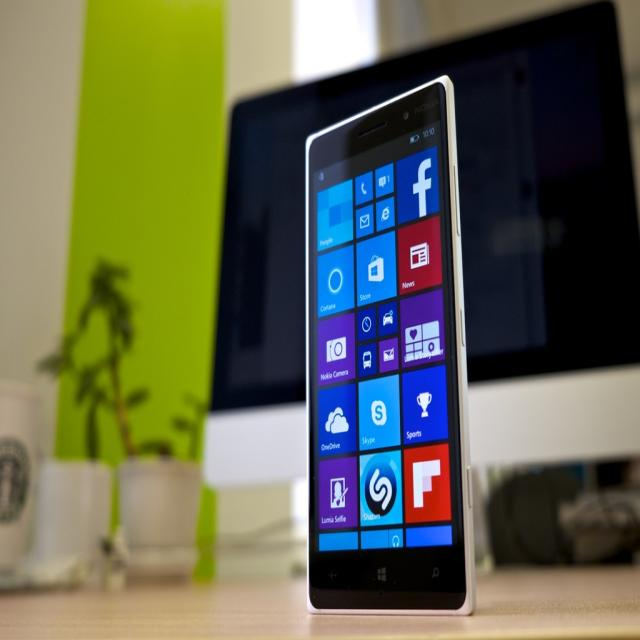Mobile-phone: (301, 69, 477, 616)
